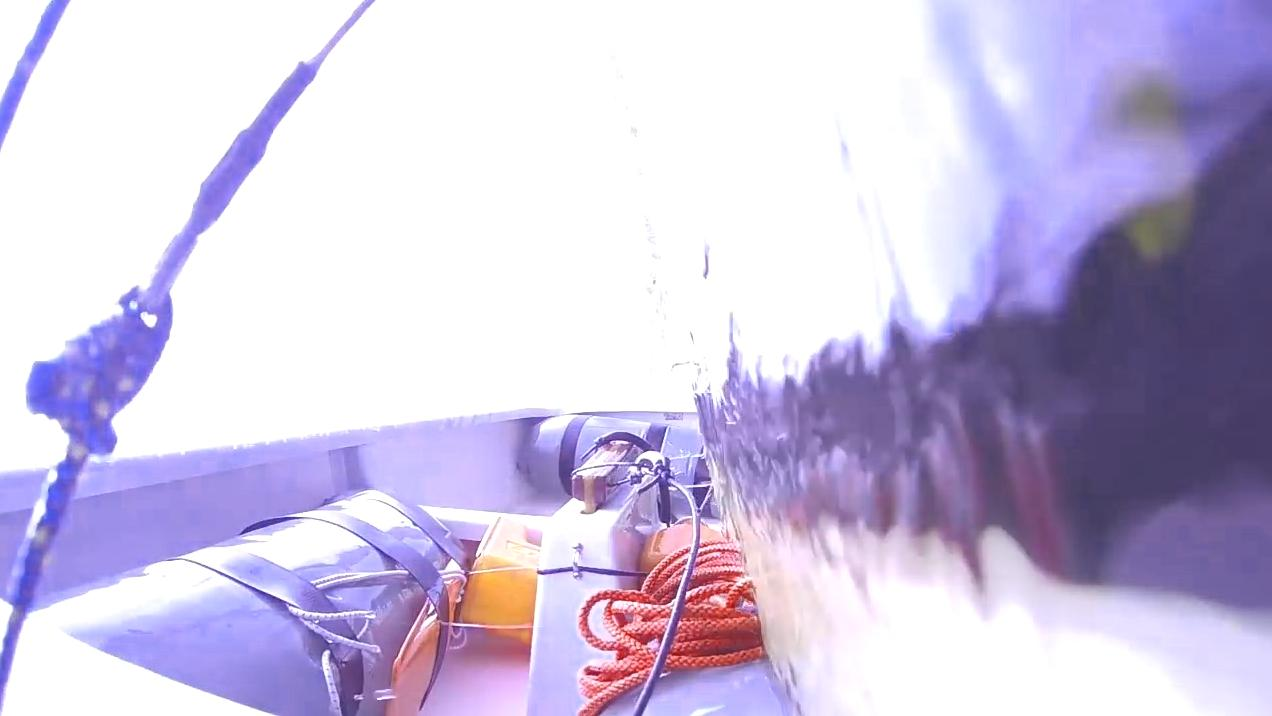boat: (0, 0, 802, 716), (625, 0, 1272, 716)
land: (606, 13, 678, 401)
sky: (0, 0, 661, 514)
